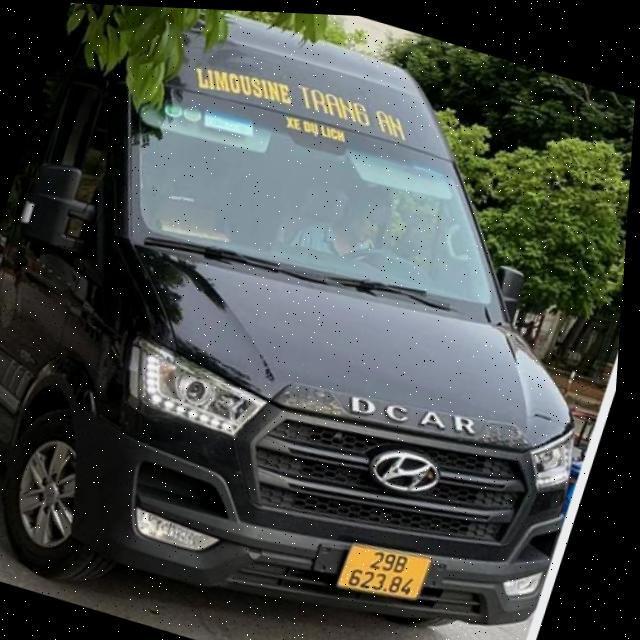car: (0, 0, 640, 640)
plate: (328, 530, 439, 616)
